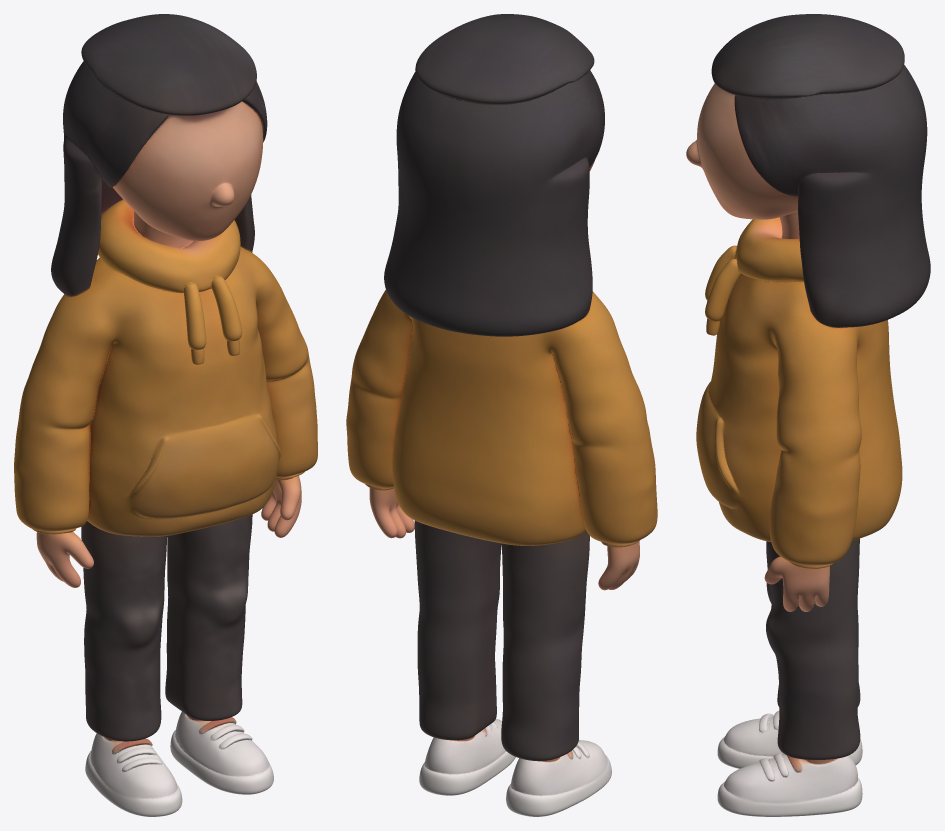
File: haru.glb
3 views of the same model, side by side, from view 1: azimuth 30°, elevation 25°; view 2: azimuth 150°, elevation 25°; view 3: azimuth 270°, elevation 25° (orthographic). The views are drawn at different scales.
Visible parts, largest first — view 1: model; view 2: model; view 3: model.
Boxes of the visible parts, x1=… form: model: x1=14, y1=14, x2=317, y2=816; model: x1=346, y1=14, x2=657, y2=816; model: x1=686, y1=14, x2=930, y2=816.
Bounding box in the file's own units: 0.7807 × 1.9 × 0.5548.
Materials: 1 (1 with a texture image).
